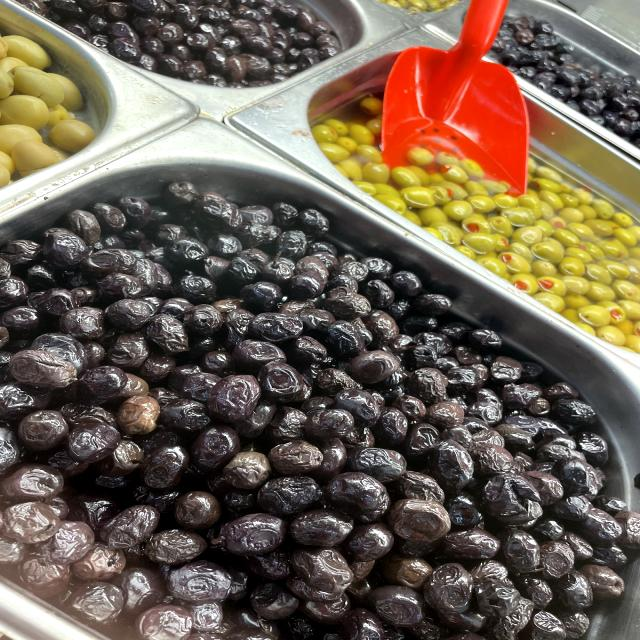olive: (201, 505, 299, 557), (95, 492, 172, 554), (163, 556, 248, 608), (422, 430, 486, 495), (384, 494, 453, 547), (365, 581, 435, 630), (63, 417, 133, 465), (261, 434, 335, 479), (203, 372, 264, 426), (344, 440, 416, 484), (344, 346, 404, 392), (100, 293, 164, 335), (244, 305, 308, 346)
